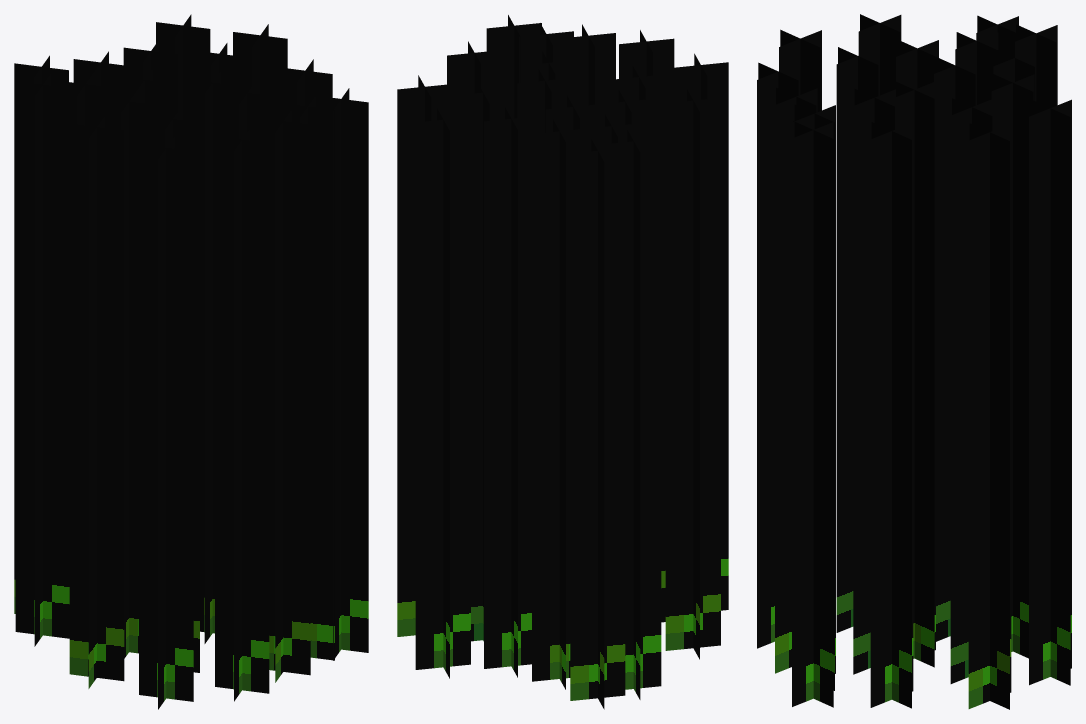
Rendered from crop_wheat.glb.
The picture shows the model from 3 angles, left to right: view 1: azimuth 30°, elevation 25°; view 2: azimuth 150°, elevation 25°; view 3: azimuth 270°, elevation 25°; orthographic projection. The views are drawn at different scales.
Parts seen in each view (by area): view 1: wheat_steams; view 2: wheat_steams; view 3: wheat_steams.
Part boxes in pixels (box(x1,y1,x2,y2)): wheat_steams: box(14, 14, 368, 709); wheat_steams: box(397, 15, 728, 709); wheat_steams: box(757, 14, 1071, 709).
Size of the model in its own units: 0.96 by 2 by 1.
1 material, 1 textured.
